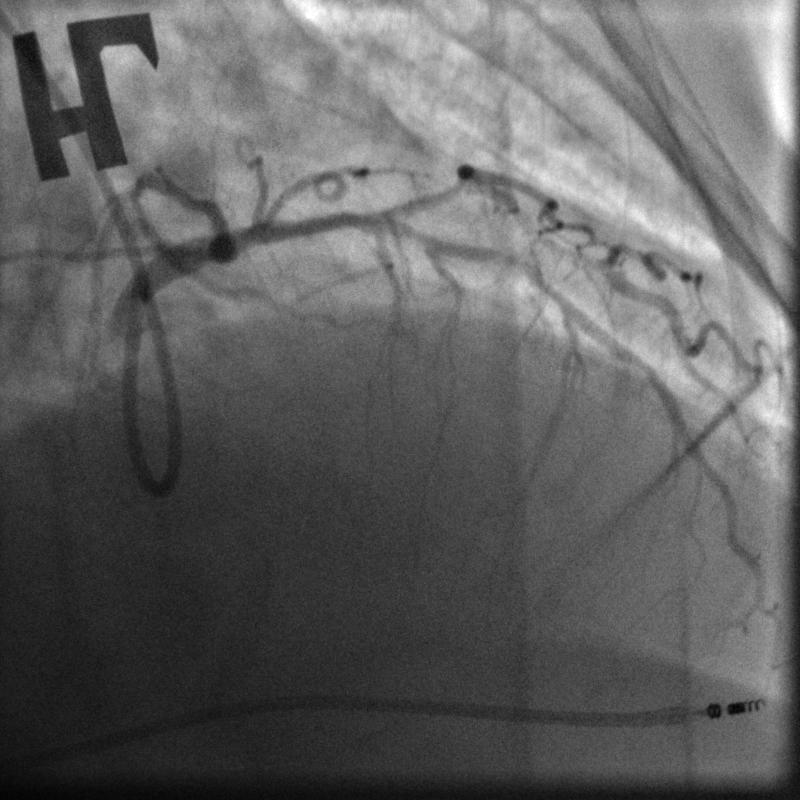Stenosis: (481, 244, 546, 285)
